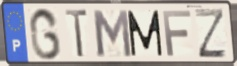F: (161, 9, 193, 58)
G: (28, 6, 63, 62)
M: (90, 9, 134, 59), (125, 9, 165, 58)
T: (64, 9, 90, 60)
Z: (193, 8, 228, 60)
